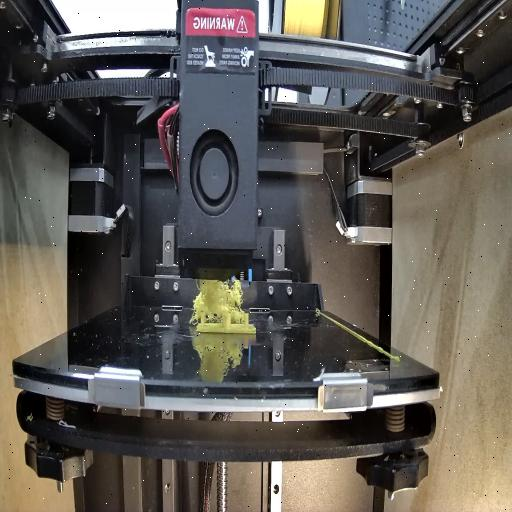spaghetti: (190, 269, 244, 321)
